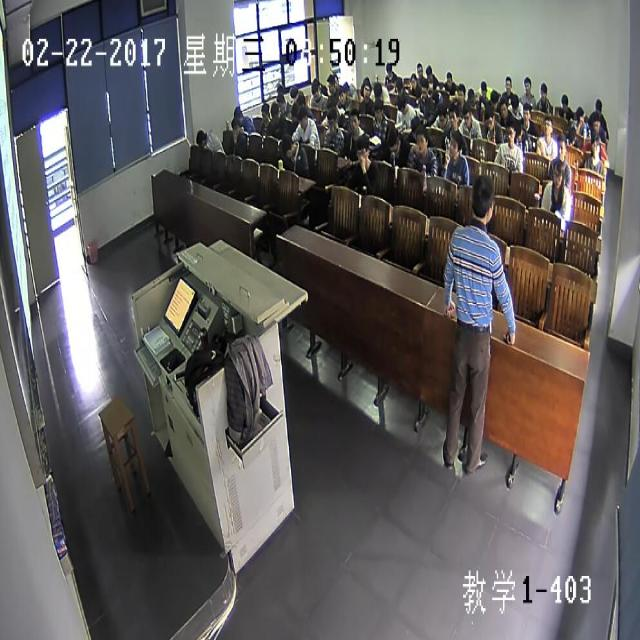person: (471, 173, 493, 224), (356, 134, 370, 166), (386, 124, 399, 156), (448, 129, 462, 158), (552, 158, 564, 190), (281, 132, 295, 158), (416, 122, 427, 152), (410, 114, 421, 141), (590, 131, 601, 158), (348, 108, 359, 134), (505, 119, 515, 147), (448, 102, 458, 129), (556, 132, 566, 159), (484, 105, 494, 130), (270, 100, 280, 124), (438, 103, 448, 127), (327, 110, 338, 131), (373, 98, 383, 121), (542, 114, 552, 137), (462, 102, 471, 127), (229, 118, 240, 138), (326, 95, 337, 115), (498, 96, 508, 118), (194, 127, 206, 145), (290, 104, 300, 125), (397, 92, 407, 113), (510, 92, 520, 113), (513, 119, 522, 142), (233, 103, 243, 123), (489, 88, 498, 110), (522, 100, 530, 124), (260, 102, 270, 121), (289, 84, 299, 103), (456, 82, 465, 103), (276, 94, 286, 112), (567, 125, 576, 145), (298, 108, 307, 127), (326, 74, 335, 93), (523, 74, 531, 95), (576, 106, 584, 126), (592, 114, 600, 134), (394, 78, 403, 95), (594, 97, 602, 116), (311, 84, 320, 100), (337, 87, 346, 103), (373, 81, 382, 97), (467, 87, 475, 105), (331, 73, 340, 88), (480, 80, 487, 99), (561, 93, 568, 112), (504, 76, 512, 92), (540, 80, 546, 101), (342, 81, 350, 96), (362, 82, 370, 97), (277, 84, 284, 100), (313, 76, 320, 92), (385, 60, 392, 76), (410, 72, 417, 88), (416, 62, 423, 78), (425, 64, 432, 80), (431, 88, 438, 104), (421, 82, 427, 100), (446, 70, 452, 87)
